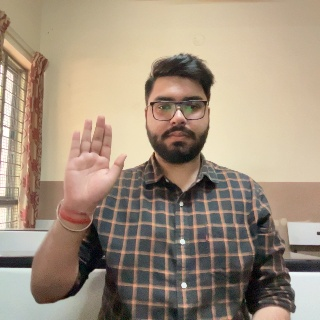Face: (145, 53, 215, 163)
Hello: (61, 115, 127, 224)
